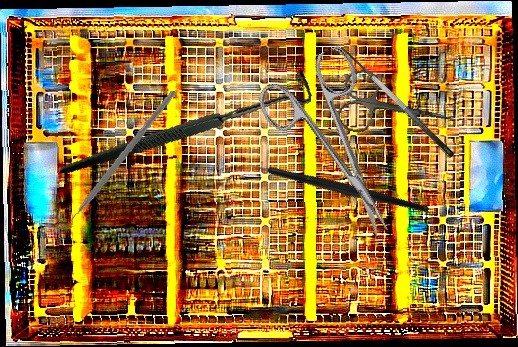Chopper: (232, 104, 430, 275), (49, 78, 178, 240)
Hook Surgical: (59, 31, 316, 214)
Iris Scissors: (250, 43, 426, 257), (335, 66, 462, 152)
Spatula Surgical: (331, 39, 456, 168)
